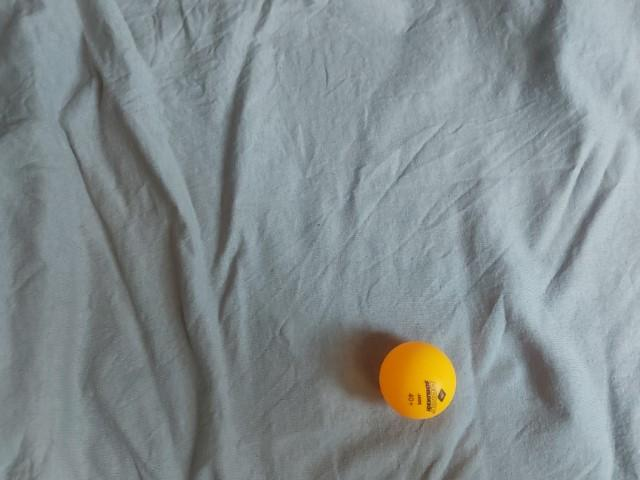oball: (371, 334, 467, 427)
